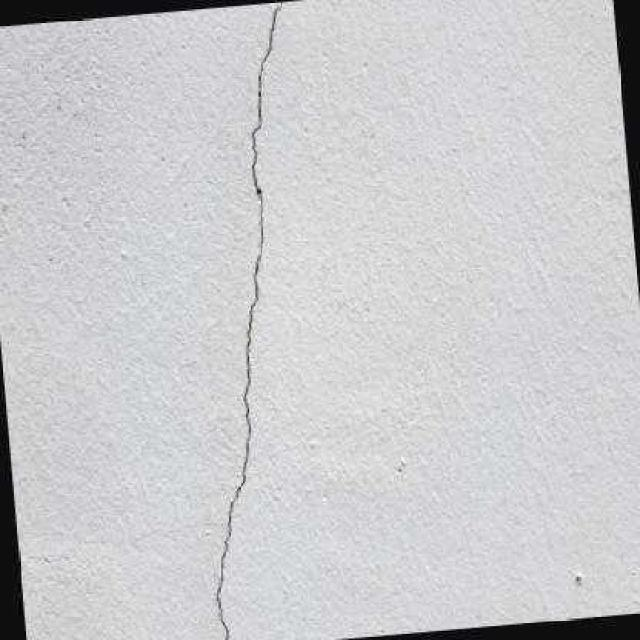D00: (217, 2, 282, 640)
